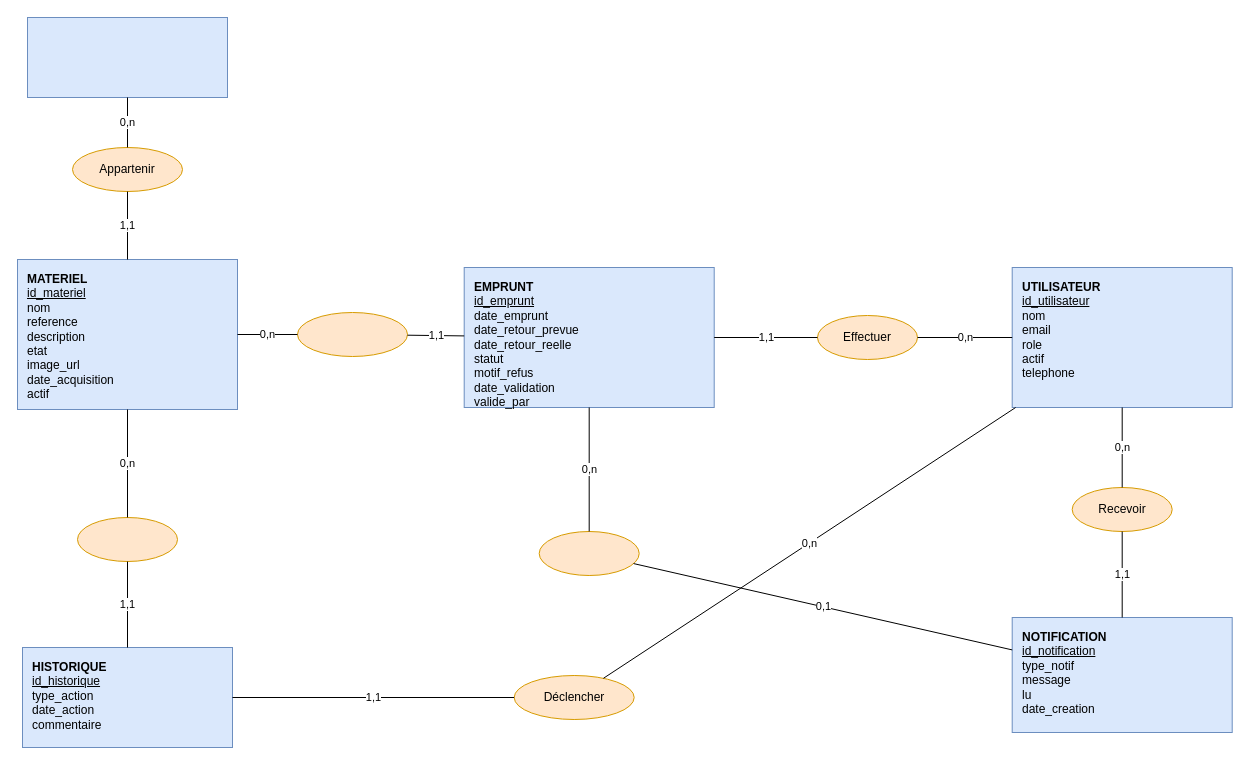
The diagram is 1250 pixels wide and 765 high, and some of its shapes have lost their labels. The centre of each missing label's shape, as x and y in pixels:
CATEGORIE id_categorie nom_categorie: the point at 127,57
Concerner: the point at 352,334
Générer: the point at 588,553
Tracer: the point at 127,539
